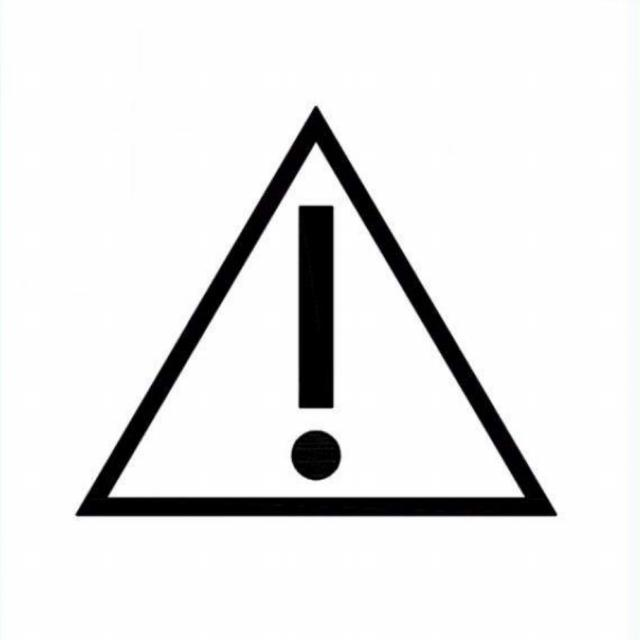Caution: (73, 101, 557, 515)
